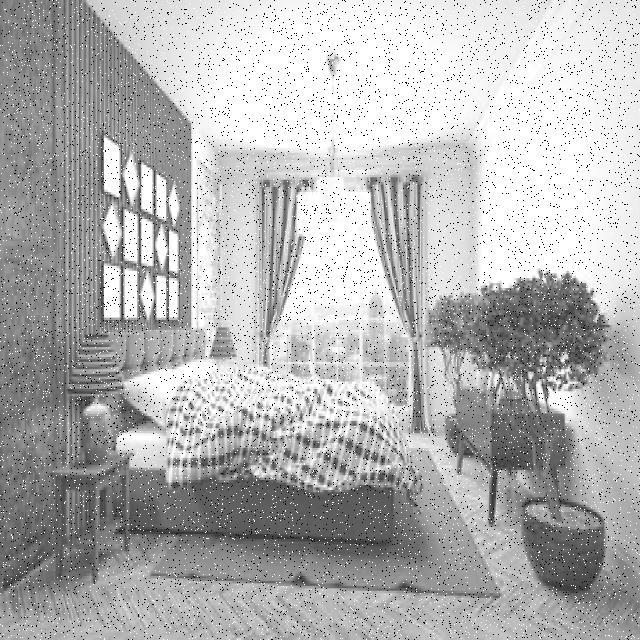bed: (119, 327, 390, 531)
